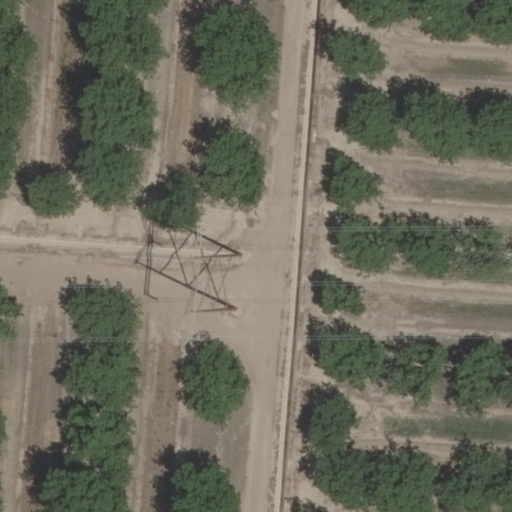TT: (139, 212, 240, 308)
